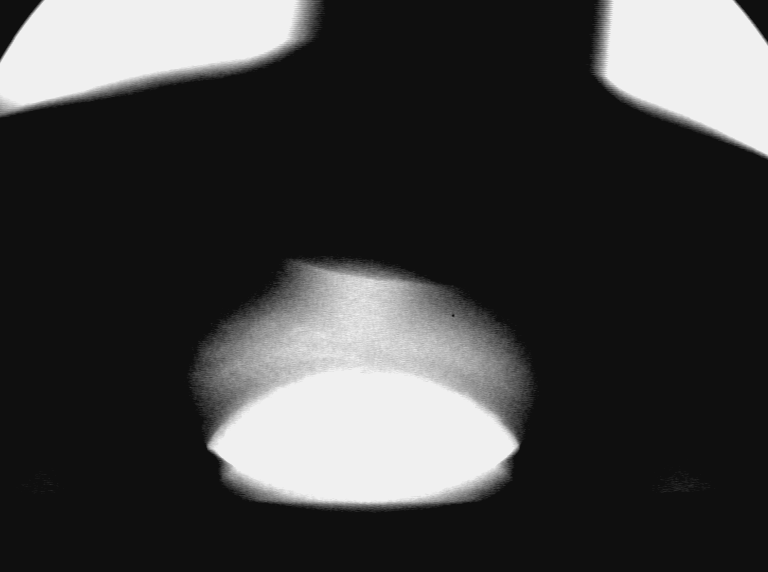defect: (176, 318, 365, 377)
